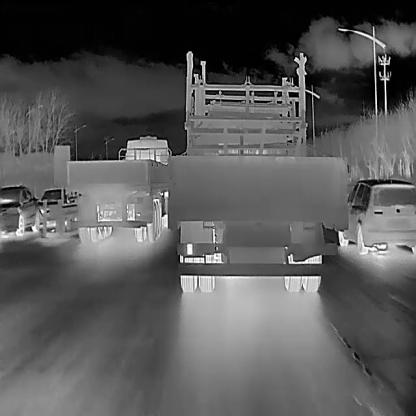car: (337, 176, 415, 254), (0, 183, 38, 238), (38, 187, 74, 233)
truck: (166, 93, 347, 291), (65, 136, 170, 241)
